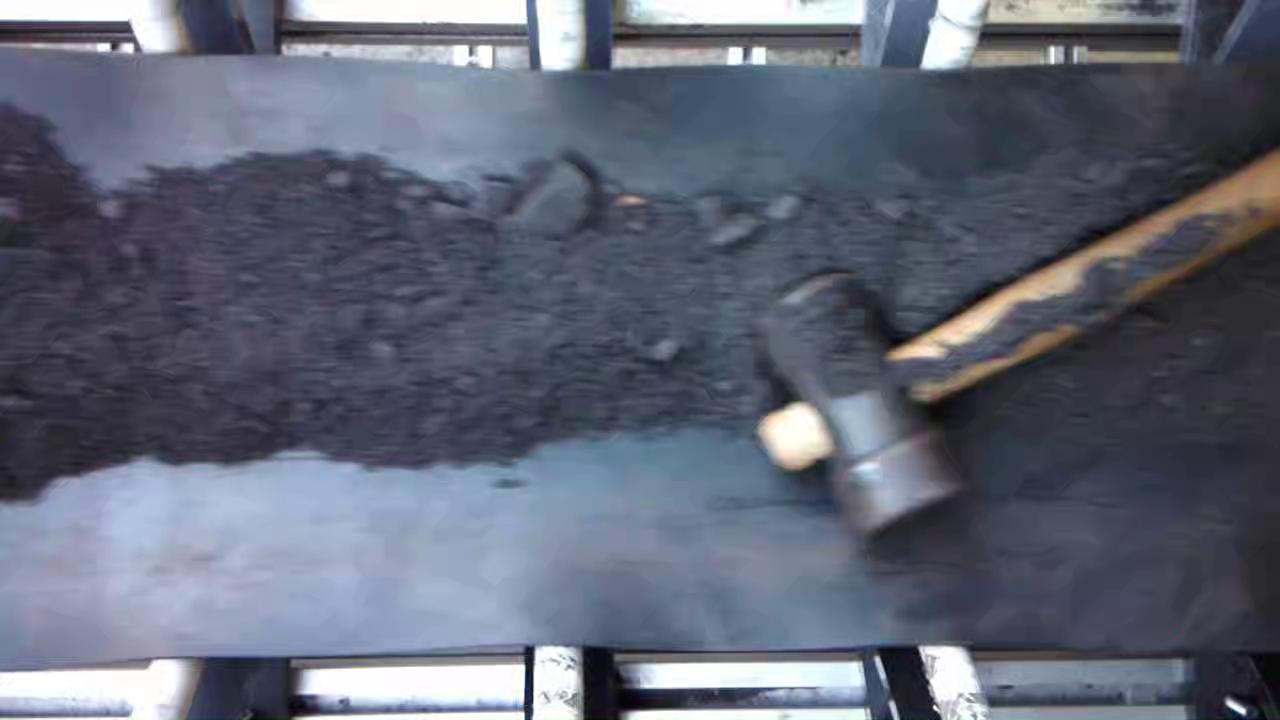conveyor: (3, 66, 1280, 644)
